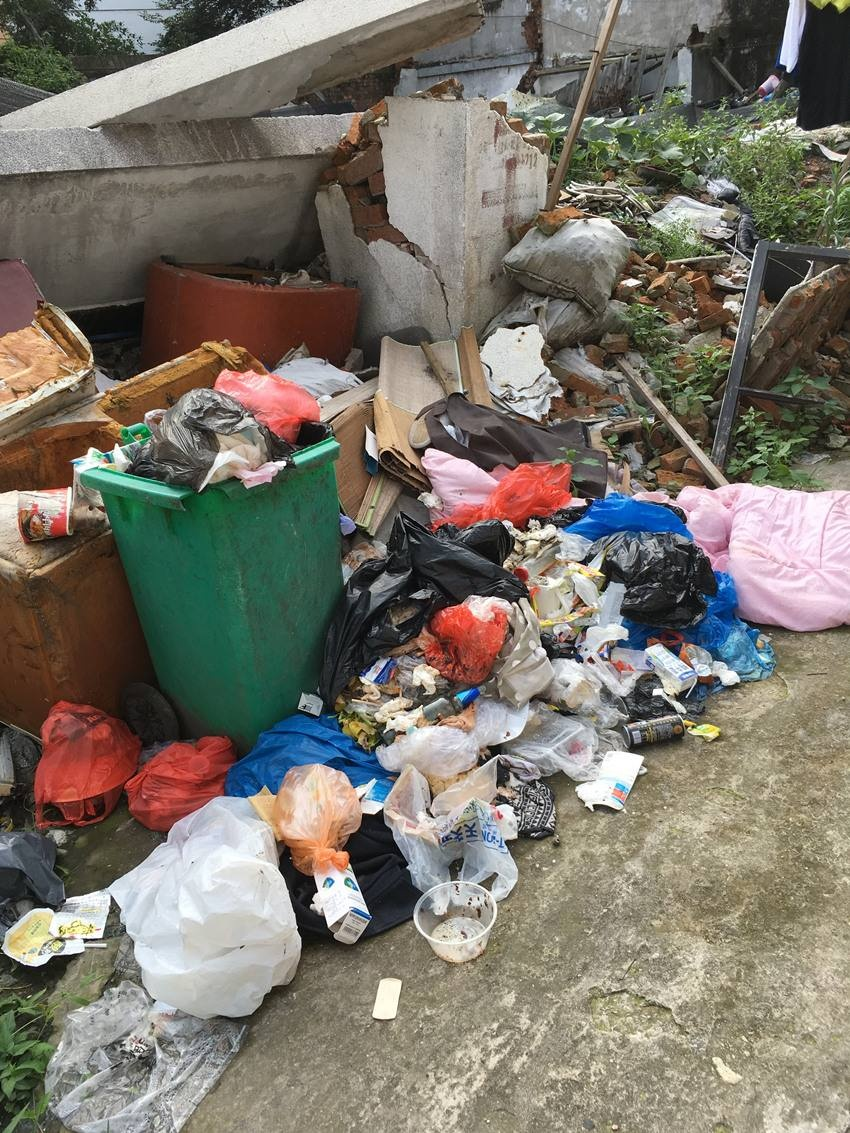falling: (544, 462, 850, 671)
